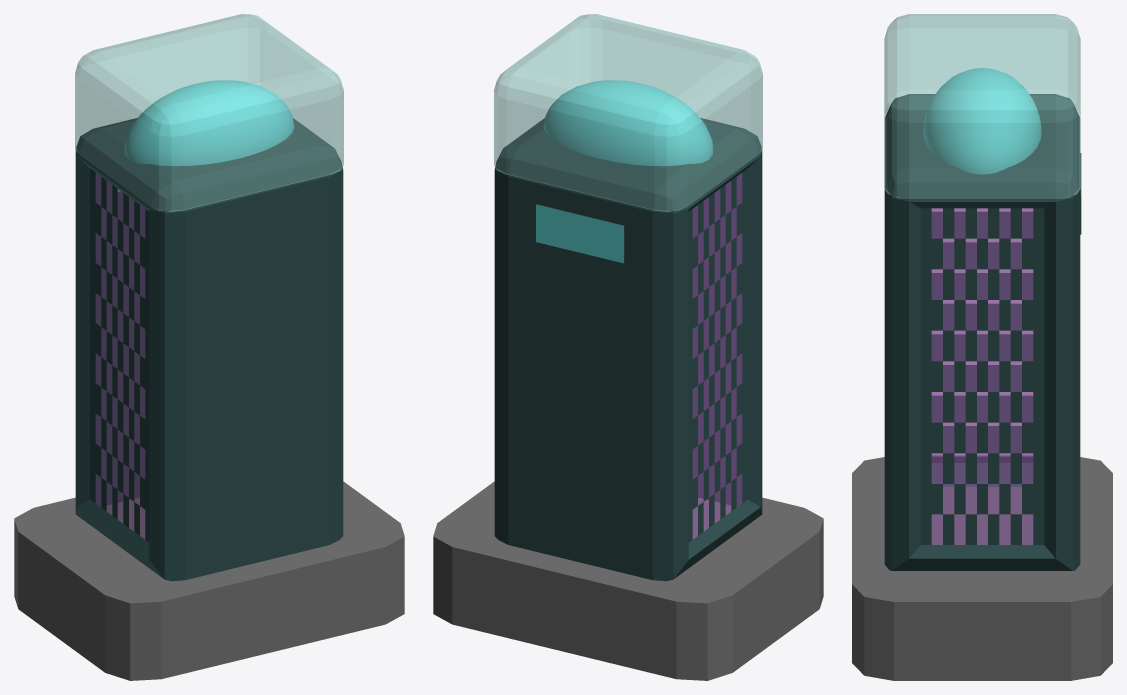
File: Charging Station.fbx
3 views of the same model, side by side, from view 1: azimuth 30°, elevation 25°; view 2: azimuth 150°, elevation 25°; view 3: azimuth 270°, elevation 25° (orthographic).
Parts seen in each view (by area): view 1: Cube.001, Cube, Cube.004, Cube.005, Cube.002; view 2: Cube.001, Cube, Cube.004, Cube.005, Cube.002, Cube.003; view 3: Cube.001, Cube, Cube.004, Cube.002, Cube.005.
Part boxes in pixels (x1=…): Cube.001: x1=75, y1=118, x2=343, y2=581; Cube: x1=14, y1=481, x2=404, y2=680; Cube.004: x1=75, y1=14, x2=343, y2=211; Cube.005: x1=124, y1=80, x2=294, y2=166; Cube.002: x1=95, y1=173, x2=145, y2=539; Cube.001: x1=494, y1=118, x2=762, y2=581; Cube: x1=433, y1=481, x2=823, y2=680; Cube.004: x1=494, y1=14, x2=762, y2=211; Cube.005: x1=543, y1=80, x2=713, y2=166; Cube.002: x1=692, y1=173, x2=742, y2=539; Cube.003: x1=536, y1=204, x2=623, y2=263; Cube.001: x1=884, y1=94, x2=1081, y2=570; Cube: x1=852, y1=457, x2=1112, y2=680; Cube.004: x1=884, y1=14, x2=1080, y2=198; Cube.002: x1=931, y1=208, x2=1033, y2=544; Cube.005: x1=923, y1=68, x2=1041, y2=174.
Size of the model in its own units: 200 by 353 by 150.
